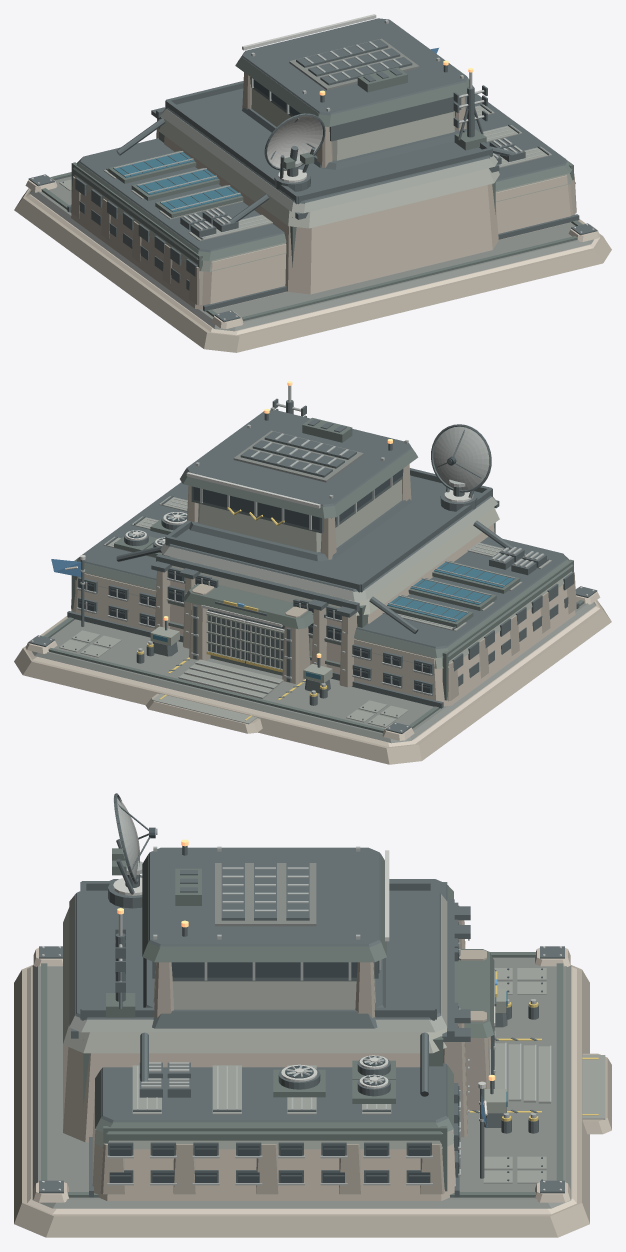
The model's file is sandforge_feldkommando_offline.glb.
3 renders of one model, top to bottom at view 1: azimuth 30°, elevation 25°; view 2: azimuth 150°, elevation 25°; view 3: azimuth 270°, elevation 25°, orthographic. The views are drawn at different scales.
Parts seen in each view (by area): view 1: static__steel_dark, static__concrete_high, static__foundation, static__olive_dark, static__deck, static__olive_light, static__deck_light, static__steel, static__glass_dark, RADAR_DISH__steel_light, static__olive, static__steel_light (+1 smaller); view 2: static__steel_dark, static__foundation, static__olive_dark, static__deck, static__concrete_high, static__deck_light, static__olive_light, static__steel, static__recess, RADAR_DISH__steel, static__glass_dark, static__olive (+5 smaller); view 3: static__steel_dark, static__foundation, static__deck, static__concrete_high, static__olive_dark, static__deck_light, static__olive_light, static__recess, static__steel, static__olive, static__steel_light, RADAR_DISH__steel (+1 smaller).
Part boxes in pixels (box(x1,y1,x2,y2)): static__steel_dark: box(28, 18, 597, 322); static__concrete_high: box(25, 136, 600, 335); static__foundation: box(14, 72, 611, 352); static__olive_dark: box(41, 57, 581, 321); static__deck: box(29, 38, 593, 331); static__olive_light: box(158, 88, 499, 228); static__deck_light: box(59, 104, 551, 240); static__steel: box(113, 20, 575, 237); static__glass_dark: box(113, 152, 241, 212); RADAR_DISH__steel_light: box(267, 116, 322, 167); static__olive: box(74, 173, 572, 271); static__steel_light: box(31, 14, 594, 319); static__steel_dark: box(28, 398, 597, 733); static__foundation: box(14, 464, 611, 764); static__olive_dark: box(43, 417, 584, 732); static__deck: box(32, 430, 596, 743); static__concrete_high: box(25, 524, 600, 746); static__deck_light: box(59, 496, 551, 727); static__olive_light: box(162, 479, 499, 615); static__steel: box(76, 385, 544, 698); static__recess: box(79, 469, 430, 693); RADAR_DISH__steel: box(433, 426, 489, 490); static__glass_dark: box(153, 562, 515, 679); static__olive: box(74, 571, 571, 683); static__steel_dark: box(39, 846, 564, 1197); static__foundation: box(14, 920, 611, 1237); static__deck: box(32, 863, 571, 1208); static__concrete_high: box(27, 948, 576, 1214); static__olive_dark: box(41, 854, 563, 1197); static__deck_light: box(69, 894, 605, 1183); static__olive_light: box(63, 907, 446, 1053); static__recess: box(109, 905, 459, 1182); static__steel: box(107, 846, 551, 1185); static__olive: box(94, 988, 506, 1149); static__steel_light: box(42, 850, 561, 1190); RADAR_DISH__steel: box(113, 798, 142, 880).
Bounding box in the file's own units: 23.8 × 10.49 × 22.42.
